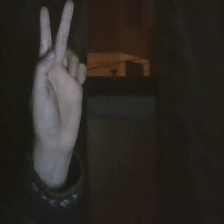K: (25, 1, 97, 157)
